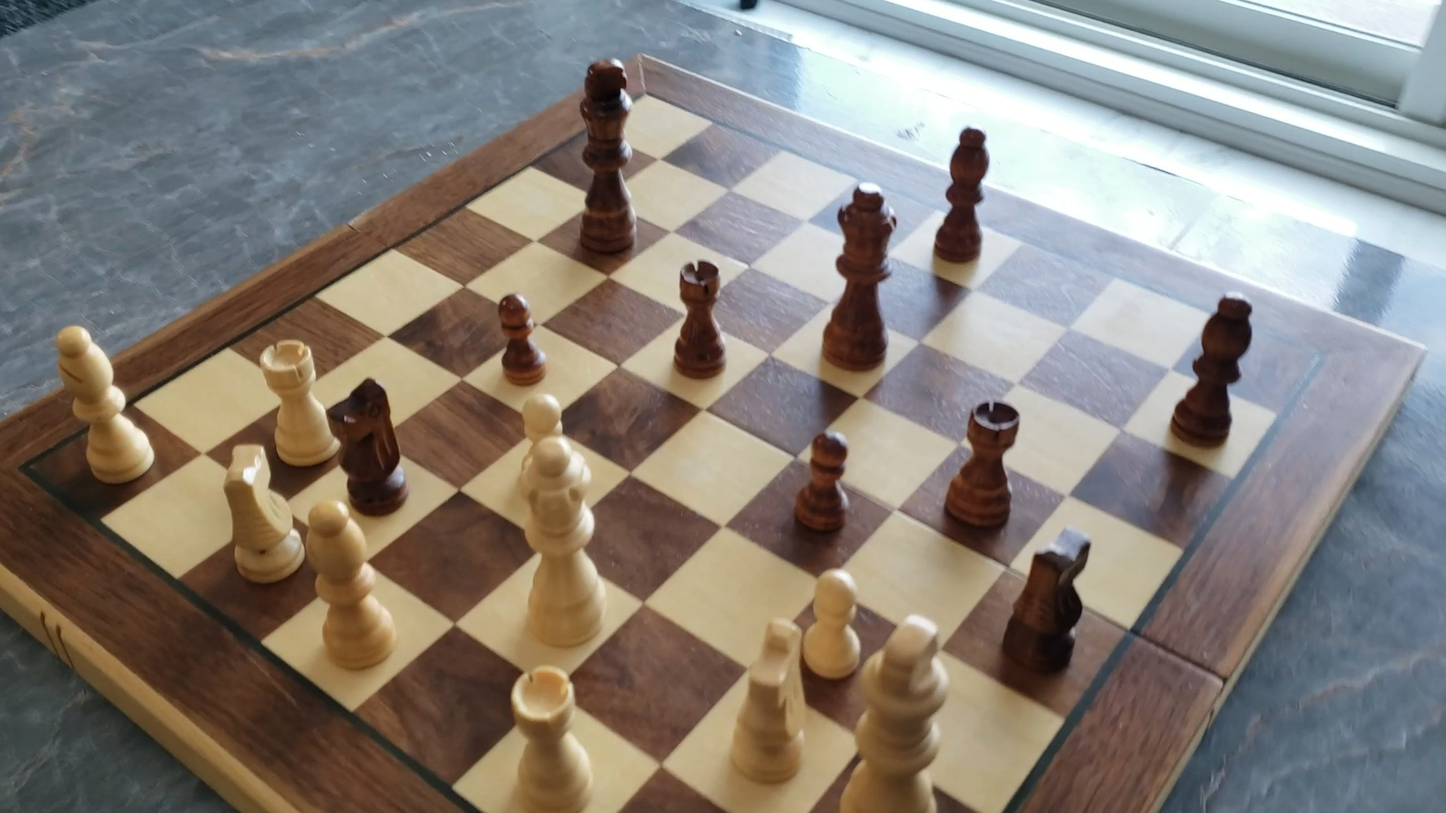black-bishop: (1166, 292, 1255, 448), (933, 123, 991, 266)
black-king: (566, 56, 651, 273)
black-knight: (1000, 526, 1095, 675), (327, 375, 410, 514)
black-pawn: (791, 426, 853, 535), (494, 289, 548, 388)
black-queen: (820, 177, 899, 373)
black-rook: (942, 400, 1022, 530), (672, 257, 727, 380)
white-bishop: (49, 320, 158, 489), (300, 498, 402, 675)
white-king: (835, 609, 957, 812)
white-knight: (722, 614, 812, 788), (217, 443, 307, 589)
white-pawn: (798, 563, 868, 684)
white-queen: (512, 431, 612, 654)
white-rook: (502, 661, 601, 812), (256, 335, 341, 469)
